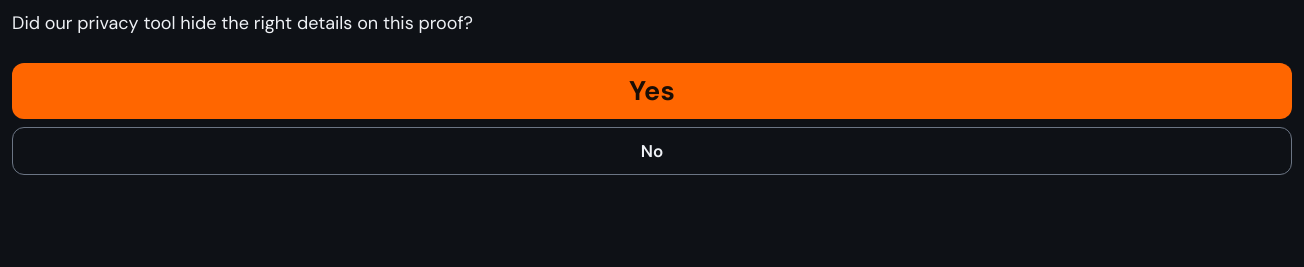
Test: BlurCheck › No opens an optional comment box; Send hands over the trimmed comment, or none
Later steps or results of the test are not shown.
Step 1. Click the button "No" → point(652, 151), box left=12, top=127, right=1292, bottom=175
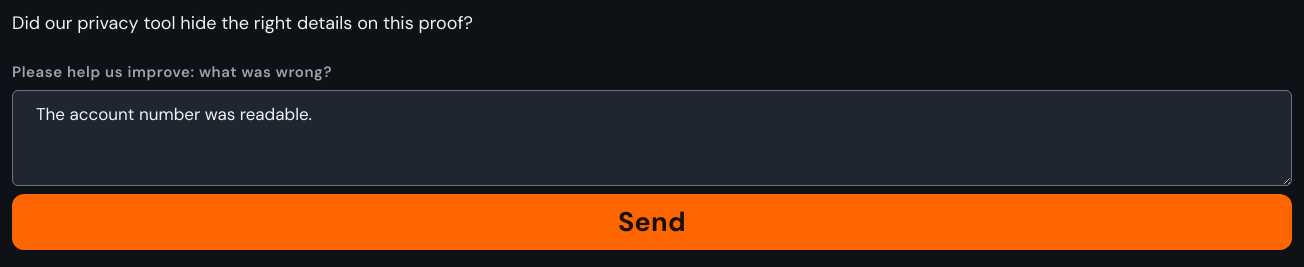
Expected: the label "Please help us improve: what was wrong?" is shown, left=12, top=62, right=332, bottom=82
